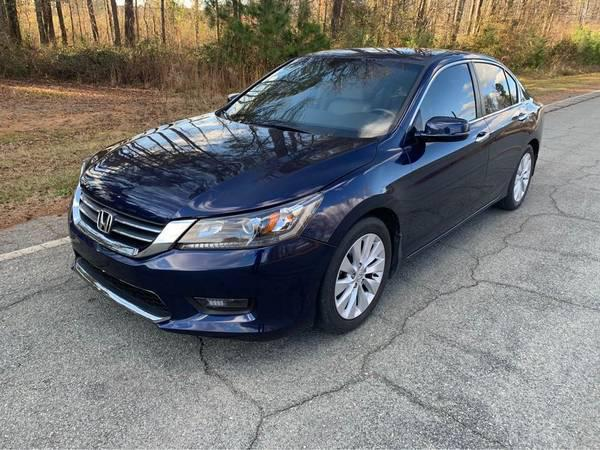Front_Bumper: (63, 215, 330, 337)
Front_Fender: (300, 129, 406, 263)
Front_Left_Door: (405, 118, 488, 256)
Front_Left_Window: (406, 62, 485, 149)
Front_Windshield: (224, 53, 432, 137)
Grille: (71, 176, 197, 258)
Hood: (81, 111, 377, 217)
Left_Headlight: (173, 191, 321, 248)
Rear_Left_Door: (483, 101, 543, 208)
Rear_Left_Window: (473, 61, 523, 119)
Roof: (307, 45, 535, 150)
Wheel: (318, 217, 391, 332), (507, 148, 535, 208)
